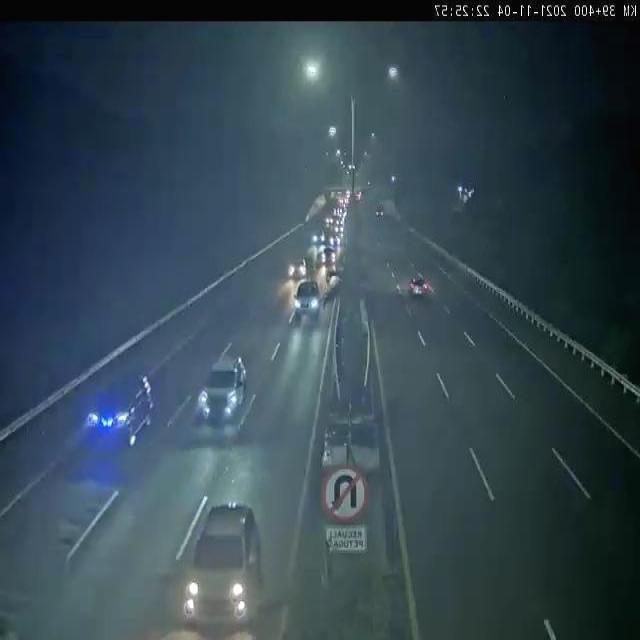Car: (176, 501, 285, 639), (72, 364, 164, 474), (186, 338, 260, 455), (284, 274, 330, 328), (402, 269, 439, 306), (283, 251, 308, 282), (318, 243, 340, 272)
